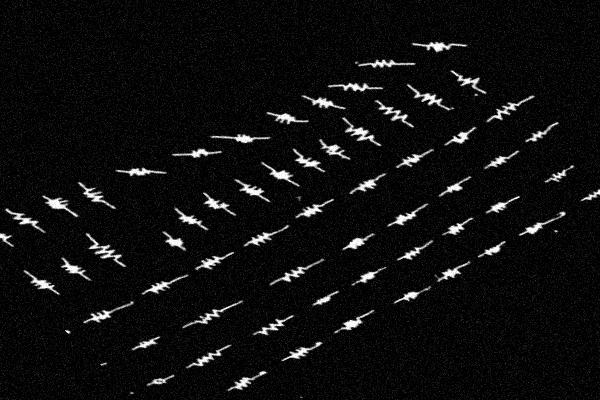resistor: (79, 234, 129, 269), (335, 115, 385, 150), (369, 96, 416, 130), (404, 81, 450, 114), (227, 173, 274, 205), (482, 95, 532, 125), (445, 65, 491, 96), (270, 259, 320, 287), (248, 313, 297, 341), (381, 204, 430, 232), (3, 204, 47, 235), (188, 303, 236, 330), (184, 345, 233, 371), (277, 338, 324, 365), (19, 268, 62, 297), (38, 190, 81, 219), (73, 180, 114, 209), (420, 32, 464, 59), (54, 254, 94, 282), (223, 369, 266, 395), (259, 160, 299, 187), (286, 146, 326, 173), (241, 226, 284, 251), (196, 190, 237, 216), (429, 261, 471, 286), (193, 249, 235, 274), (176, 141, 218, 166), (335, 74, 376, 99), (172, 206, 211, 232), (264, 105, 303, 131), (331, 312, 373, 336), (347, 264, 388, 288), (393, 241, 434, 265), (293, 198, 334, 222), (140, 275, 181, 299), (82, 304, 123, 328), (363, 52, 404, 76), (338, 229, 378, 253), (347, 173, 387, 197), (314, 136, 351, 161), (480, 194, 520, 217), (394, 148, 432, 172), (121, 160, 158, 184), (304, 90, 339, 115), (481, 149, 520, 171), (227, 126, 264, 149), (434, 177, 472, 199), (521, 124, 559, 146), (128, 332, 165, 354), (442, 127, 477, 149), (158, 230, 191, 253), (391, 286, 428, 306), (518, 217, 553, 238), (439, 219, 474, 240), (307, 289, 342, 309), (477, 240, 509, 259), (543, 166, 575, 185), (145, 371, 177, 390), (0, 223, 19, 249), (578, 186, 600, 205), (97, 359, 113, 371), (126, 388, 138, 398)
